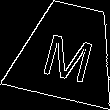M_N: (37, 22, 97, 81)
